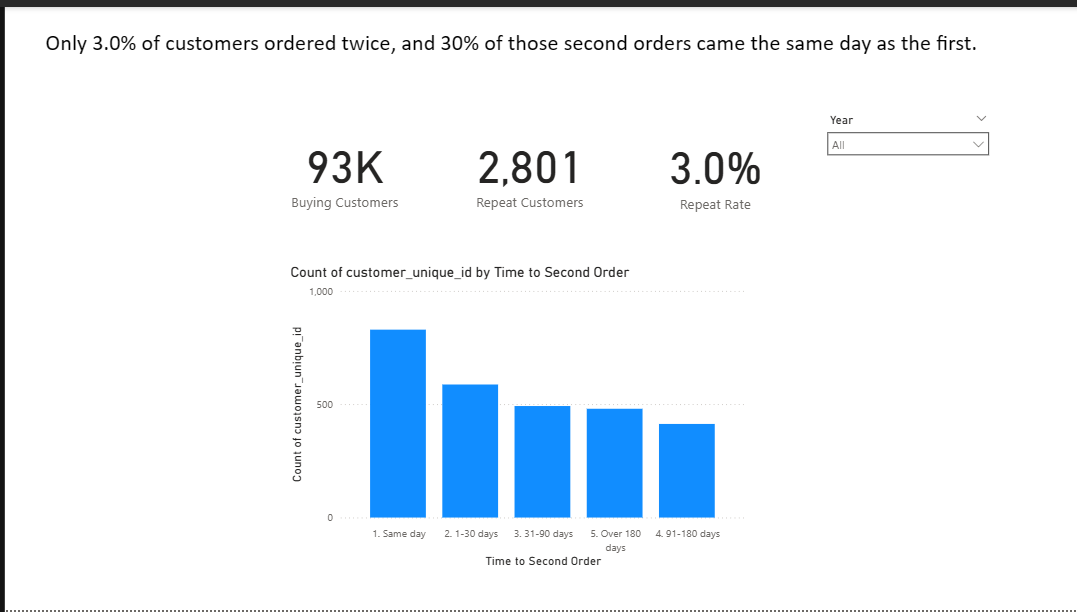

What the dashboard file says about the page in this screenshot:
{"tool":"powerbi","page":{"name":"Customers","canvas":[1280,720],"ordinal":4},"visuals":[{"type":"card","fields":{"Values":["_Measures.Buying Customers"]},"box":[323.8,131.3,164.1,126.8],"z":0},{"type":"card","fields":{"Values":["_Measures.Repeat Customers"]},"box":[544.7,131.3,164.1,126.8],"z":1},{"type":"card","fields":{"Values":["_Measures.Repeat Rate"]},"box":[765.5,132.8,165.6,126.8],"z":2},{"type":"clusteredColumnChart","fields":{"Category":["customer_summary.Time to Second Order"],"Y":["CountNonNull(customer_summary.customer_unique_id)"]},"box":[335.7,305.9,553.6,368.6],"z":3},{"type":"textbox","box":[43.3,20.9,1168.4,85.1],"z":4}]}

Visuals, with their boxes in screenshot pixels (x1, y1, x2, y2), scaled from the page's 1280x720 canvas onto the 1077x612 screenshot:
card - _Measures.Buying Customers: l=272, t=112, r=411, b=219
card - _Measures.Repeat Customers: l=458, t=112, r=596, b=219
card - _Measures.Repeat Rate: l=644, t=113, r=783, b=221
clusteredColumnChart - customer_summary.Time to Second Order x CountNonNull(customer_summary.customer_unique_id): l=282, t=260, r=748, b=573
textbox: l=36, t=18, r=1020, b=90
